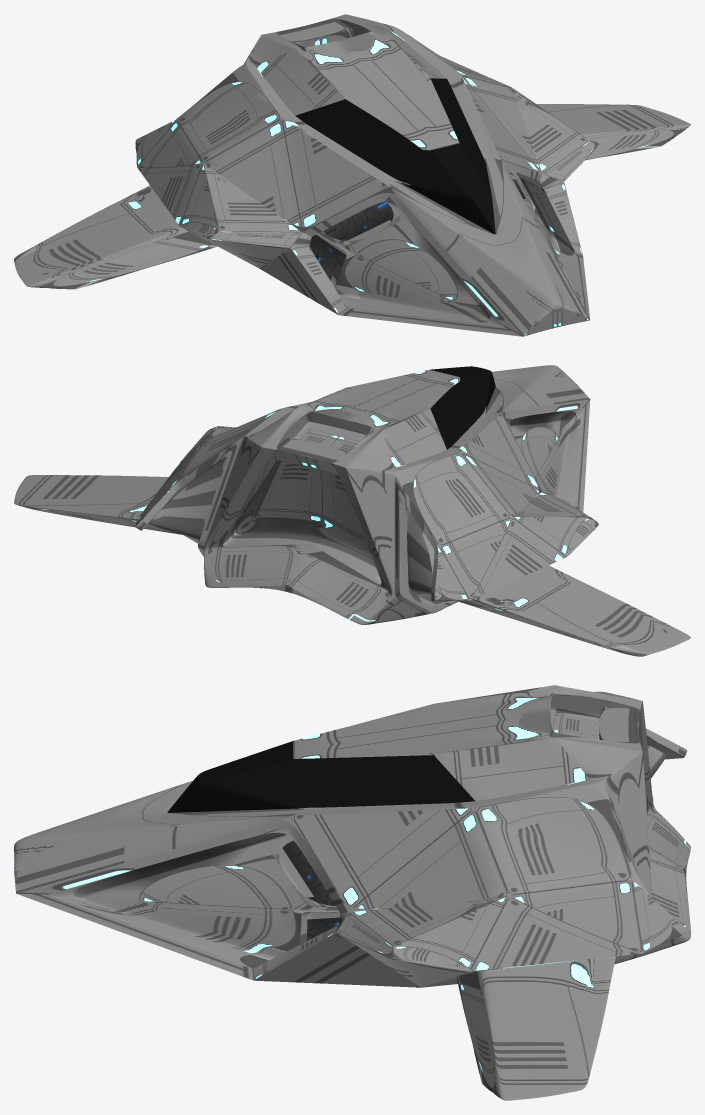
Rendered from Tau.glb.
3 views of the same model, one above another, from view 1: azimuth 30°, elevation 25°; view 2: azimuth 150°, elevation 25°; view 3: azimuth 270°, elevation 25° (orthographic). The views are drawn at different scales.
Parts seen in each view (by area): view 1: Verta Stealth; view 2: Verta Stealth; view 3: Verta Stealth.
Part boxes in pixels (x1,y1,x2,y2): Verta Stealth: (14, 14, 690, 336); Verta Stealth: (14, 365, 690, 656); Verta Stealth: (14, 685, 690, 1100).
Bounding box in the file's own units: 5.38 × 1.22 × 3.84.
Materials: 3 (2 with a texture image).
